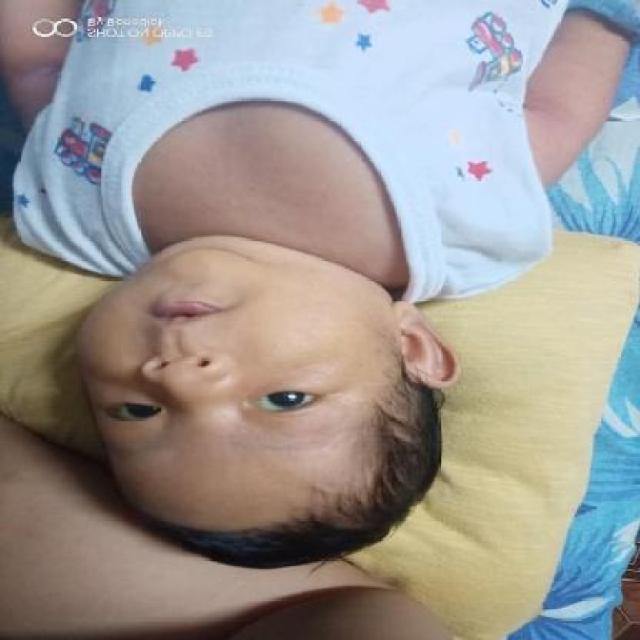baby: (0, 1, 634, 572)
